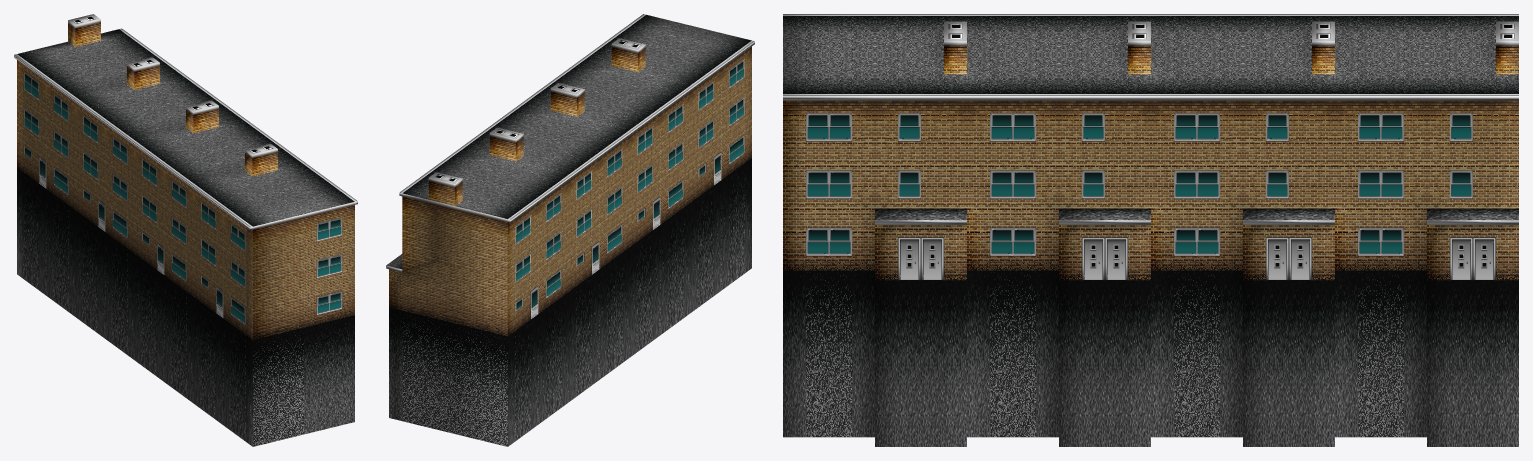
File: maisonet_mod1_3b.fbx
3 renders of one model, left to right at view 1: azimuth 30°, elevation 25°; view 2: azimuth 150°, elevation 25°; view 3: azimuth 270°, elevation 25°, orthographic. The views are drawn at different scales.
Parts seen in each view (by area): view 1: maisonet_mod1_3b; view 2: maisonet_mod1_3b; view 3: maisonet_mod1_3b.
Part boxes in pixels (<box>): maisonet_mod1_3b: <box>14,14,357,446</box>; maisonet_mod1_3b: <box>386,14,754,446</box>; maisonet_mod1_3b: <box>783,14,1518,446</box>.
Bounding box in the file's own units: 1062 × 2033 × 3600.
